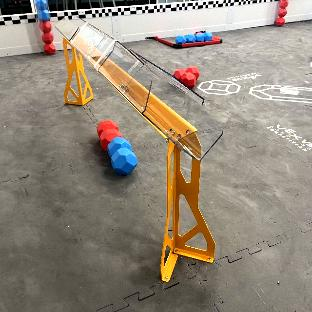V5_BLUE: (108, 137, 136, 173)
V5_RED: (97, 119, 121, 149), (174, 66, 198, 87)
